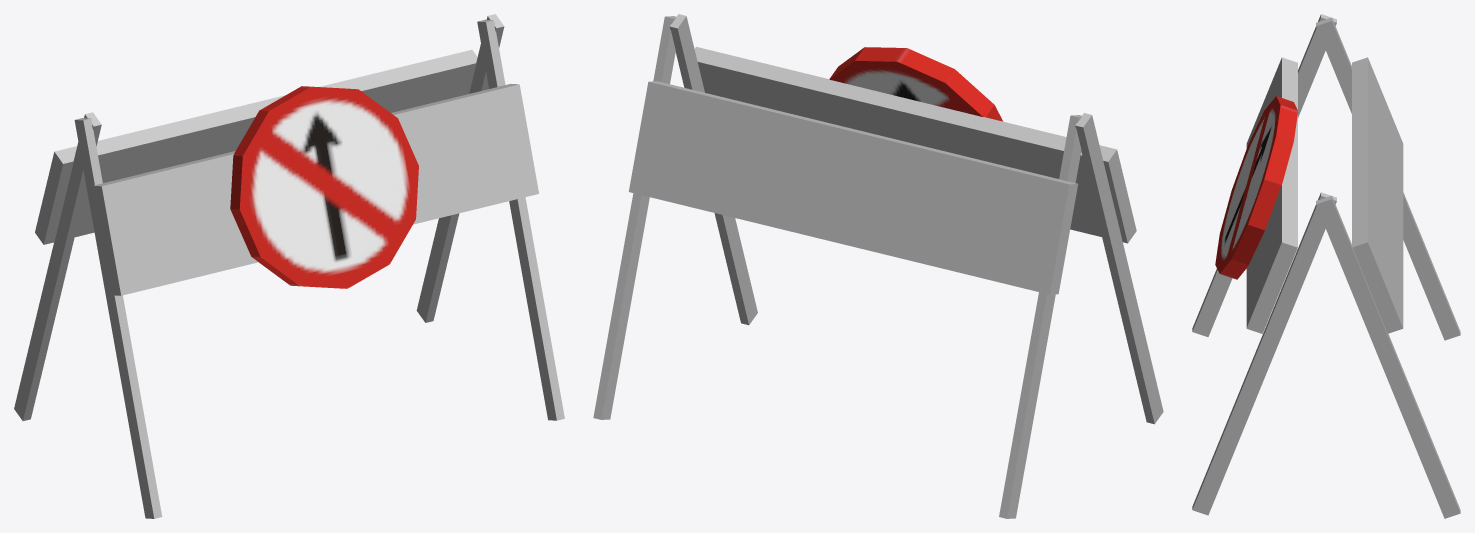
The model's file is placa-obras.fbx.
3 renders of one model, left to right at view 1: azimuth 30°, elevation 25°; view 2: azimuth 150°, elevation 25°; view 3: azimuth 270°, elevation 25°, orthographic. The views are drawn at different scales.
Visible parts, largest first — view 1: Placa-Proibido-Frente-10, Cube, Cube.005, Cube.001, Cube.004, Cube.003, Cube.002; view 2: Cube.005, Cube, Placa-Proibido-Frente-10, Cube.001, Cube.004, Cube.002, Cube.003; view 3: Cube.005, Placa-Proibido-Frente-10, Cube.002, Cube, Cube.003, Cube.004, Cube.001.
Boxes of the visible parts, x1=… form: Placa-Proibido-Frente-10: x1=230, y1=86, x2=418, y2=288; Cube: x1=93, y1=84, x2=538, y2=295; Cube.005: x1=35, y1=49, x2=477, y2=244; Cube.001: x1=74, y1=118, x2=162, y2=518; Cube.004: x1=14, y1=112, x2=101, y2=420; Cube.003: x1=477, y1=19, x2=564, y2=420; Cube.002: x1=416, y1=14, x2=504, y2=322; Cube.005: x1=628, y1=81, x2=1078, y2=294; Cube: x1=694, y1=46, x2=1136, y2=243; Placa-Proibido-Frente-10: x1=829, y1=47, x2=1002, y2=121; Cube.001: x1=1075, y1=113, x2=1163, y2=424; Cube.004: x1=999, y1=115, x2=1081, y2=518; Cube.002: x1=593, y1=16, x2=675, y2=419; Cube.003: x1=669, y1=14, x2=757, y2=325; Cube.005: x1=1352, y1=57, x2=1403, y2=333; Placa-Proibido-Frente-10: x1=1215, y1=96, x2=1298, y2=279; Cube.002: x1=1316, y1=195, x2=1460, y2=518; Cube: x1=1246, y1=57, x2=1297, y2=333; Cube.003: x1=1192, y1=192, x2=1336, y2=515; Cube.004: x1=1316, y1=17, x2=1460, y2=340; Cube.001: x1=1192, y1=14, x2=1336, y2=336.
Bounding box in the file's own units: 178 × 142 × 108.
